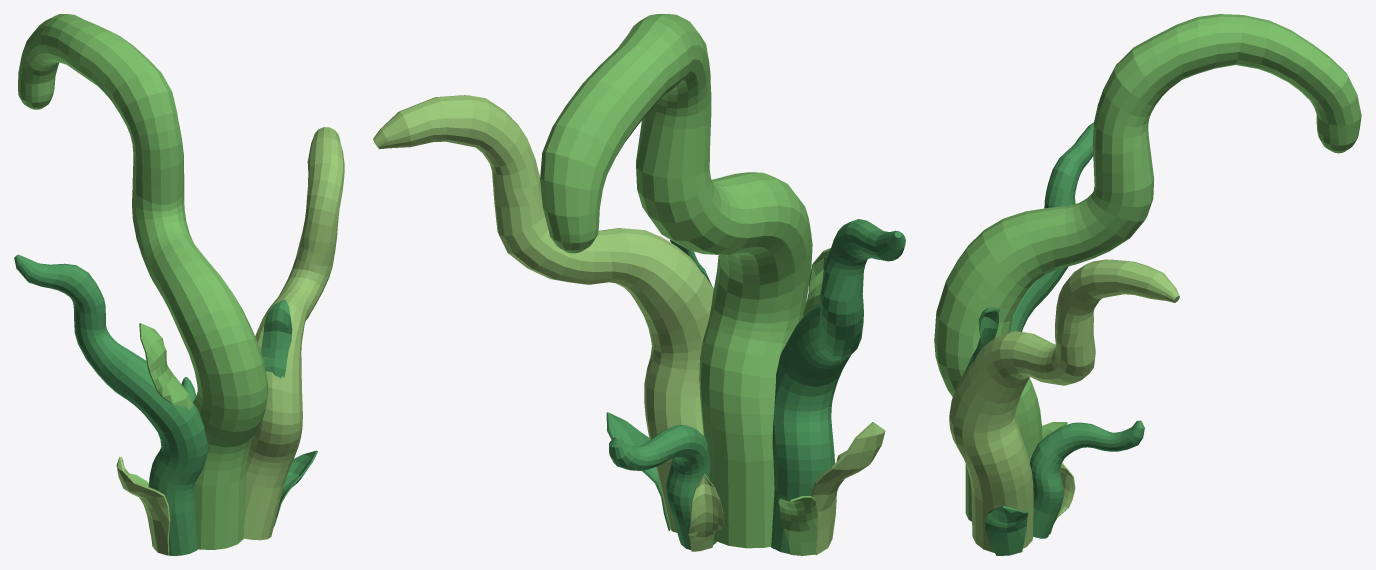
File: BPW_Plants.fbx
3 renders of one model, left to right at view 1: azimuth 30°, elevation 25°; view 2: azimuth 150°, elevation 25°; view 3: azimuth 270°, elevation 25°, orthographic. The views are drawn at different scales.
Parts seen in each view (by area): view 1: Plane.003; view 2: Plane.003; view 3: Plane.003.
Boxes of the visible parts, box(x1,y1,x2,y2) form: Plane.003: box(14, 14, 344, 555); Plane.003: box(373, 14, 905, 555); Plane.003: box(934, 14, 1361, 555).
Size of the model in its own units: 639 by 782 by 610.
